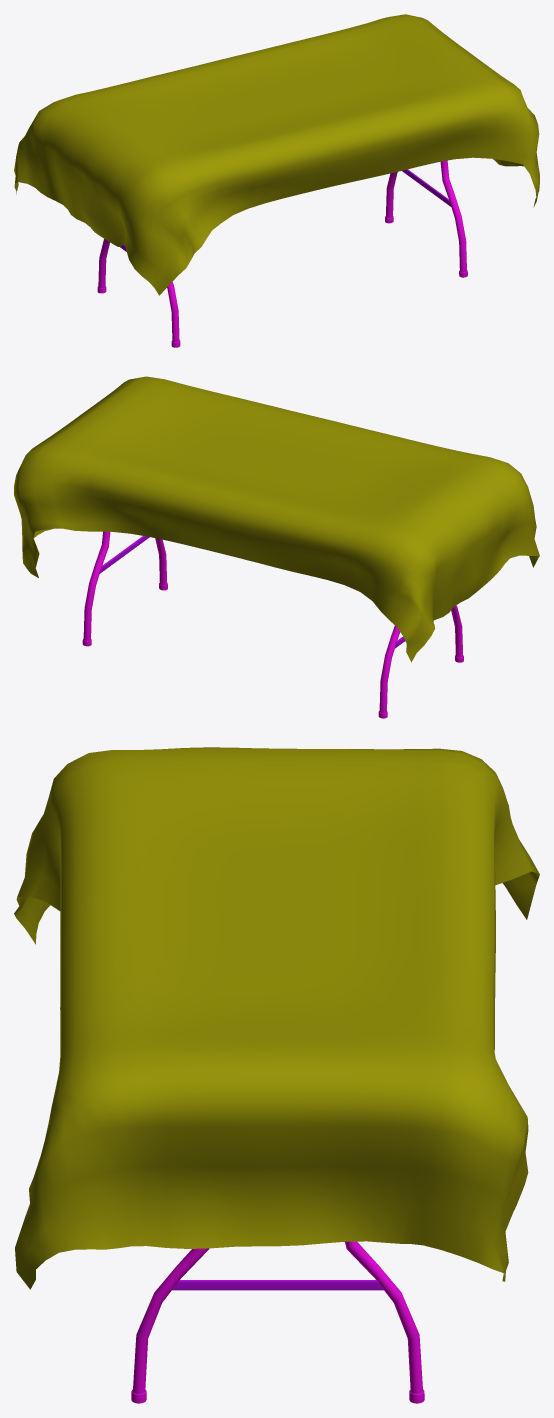
Rendered from table with cloth 1.fbx.
3 renders of one model, top to bottom at view 1: azimuth 30°, elevation 25°; view 2: azimuth 150°, elevation 25°; view 3: azimuth 270°, elevation 25°, orthographic. The views are drawn at different scales.
Parts seen in each view (by area): view 1: polySurface1; view 2: polySurface1; view 3: polySurface1.
Boxes of the visible parts, box(x1,y1,x2,y2) form: polySurface1: box(14, 14, 539, 347); polySurface1: box(14, 376, 539, 718); polySurface1: box(14, 747, 539, 1403).
Bounding box in the file's own units: 1.49 × 0.6771 × 0.8855.
